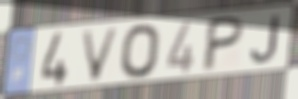4: (164, 19, 196, 75), (39, 29, 69, 88)
J: (249, 14, 282, 65)
O: (119, 22, 163, 81)
P: (199, 14, 247, 74)
V: (79, 26, 122, 83)
